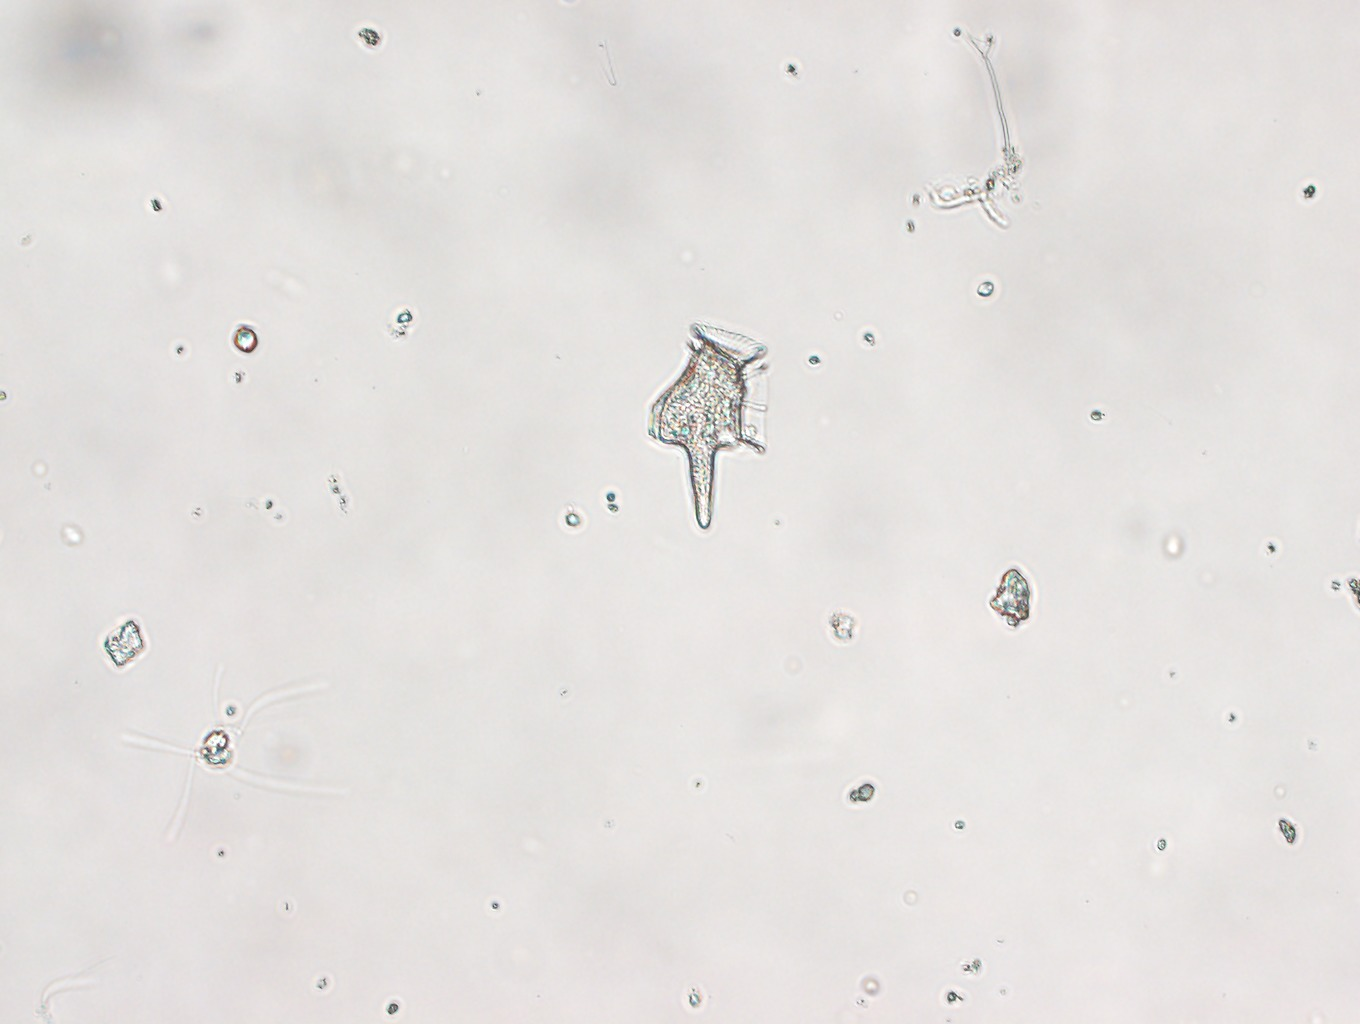dinophysis caudata: (641, 313, 775, 529)
